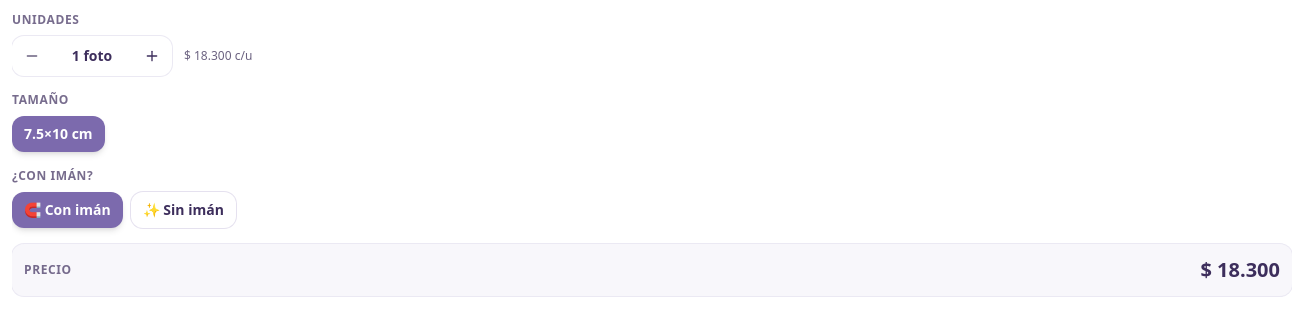
Test: VariantSelector — stepper de cantidad › polaroid {1,10} (set no contiguo del catálogo STG 2026-09): stepper 'Unidades' salta 1 → 10 y vuelve
Check: the text "1 foto" is shown, box left=72, top=46, right=112, bottom=65
Check: the button named "Disminuir unidades" is disabled, box left=12, top=36, right=52, bottom=76
Click the button named "Aumentar unidades".
click(152, 56)  # box left=132, top=36, right=172, bottom=76
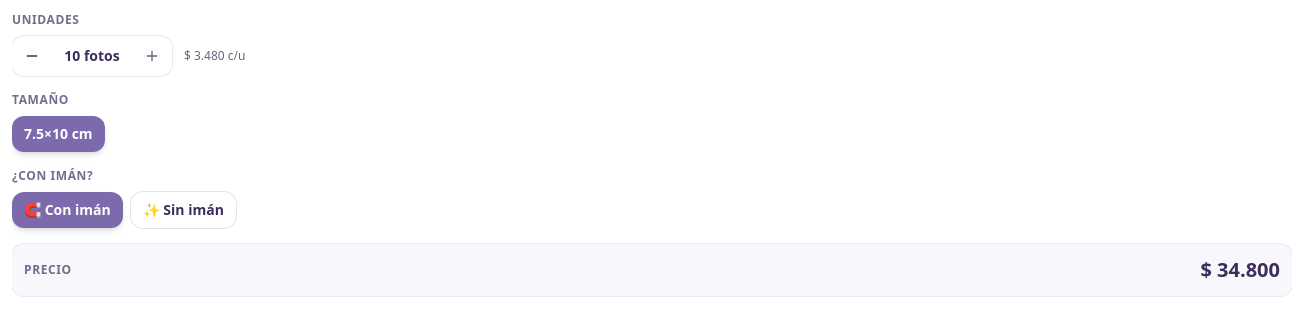
Check: the text "10 fotos" is shown, box left=64, top=46, right=120, bottom=65
Check: the button named "Aumentar unidades" is disabled, box left=132, top=36, right=172, bottom=76
− vuelve a 1.
Click the button named "Disminuir unidades".
click(32, 56)  # box left=12, top=36, right=52, bottom=76
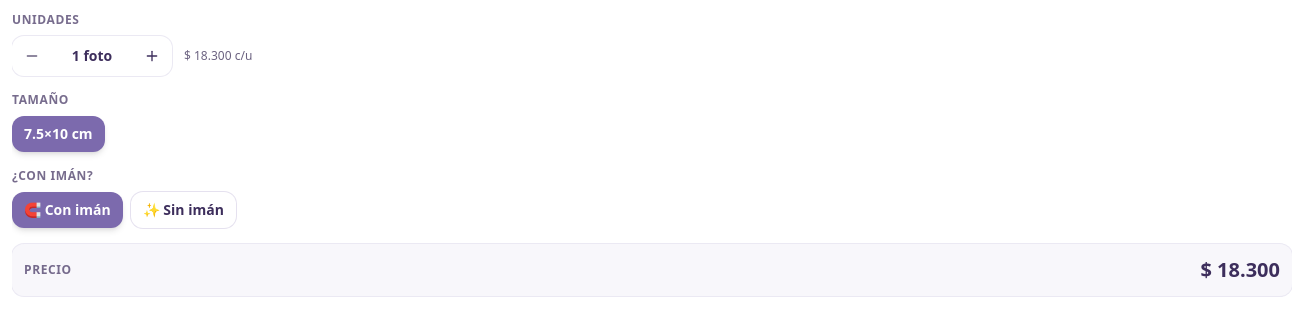
Check: the text "1 foto" is shown, box left=72, top=46, right=112, bottom=65
